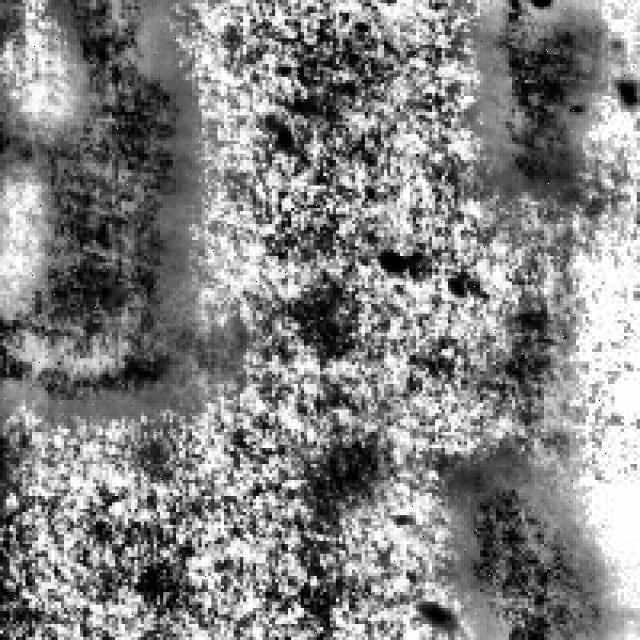Scratches: (10, 0, 208, 400), (464, 451, 624, 637), (486, 4, 608, 182)
